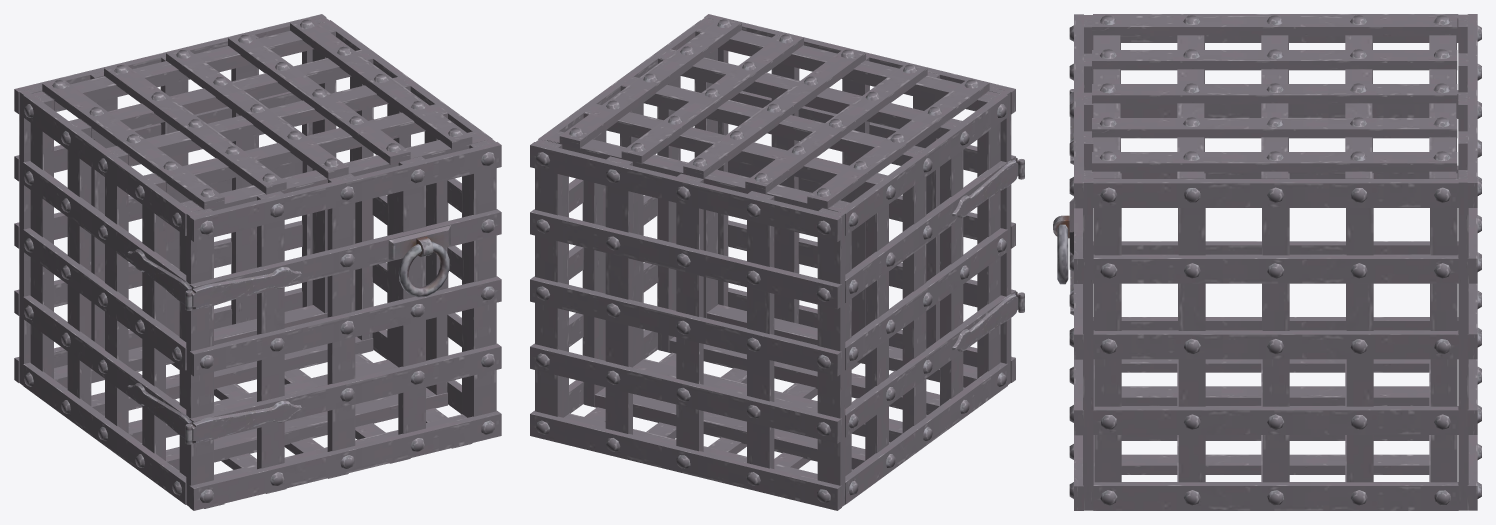
File: Cage_Small.glb
3 views of the same model, side by side, from view 1: azimuth 30°, elevation 25°; view 2: azimuth 150°, elevation 25°; view 3: azimuth 270°, elevation 25° (orthographic). The views are drawn at different scales.
Parts seen in each view (by area): view 1: Cage_Small; view 2: Cage_Small; view 3: Cage_Small.
Part boxes in pixels (x1=…): Cage_Small: x1=14, y1=14, x2=501, y2=510; Cage_Small: x1=530, y1=14, x2=1024, y2=510; Cage_Small: x1=1053, y1=14, x2=1481, y2=510.
Size of the model in its own units: 0.8549 by 0.8052 by 0.8843.
Materials: 1 (1 with a texture image).
